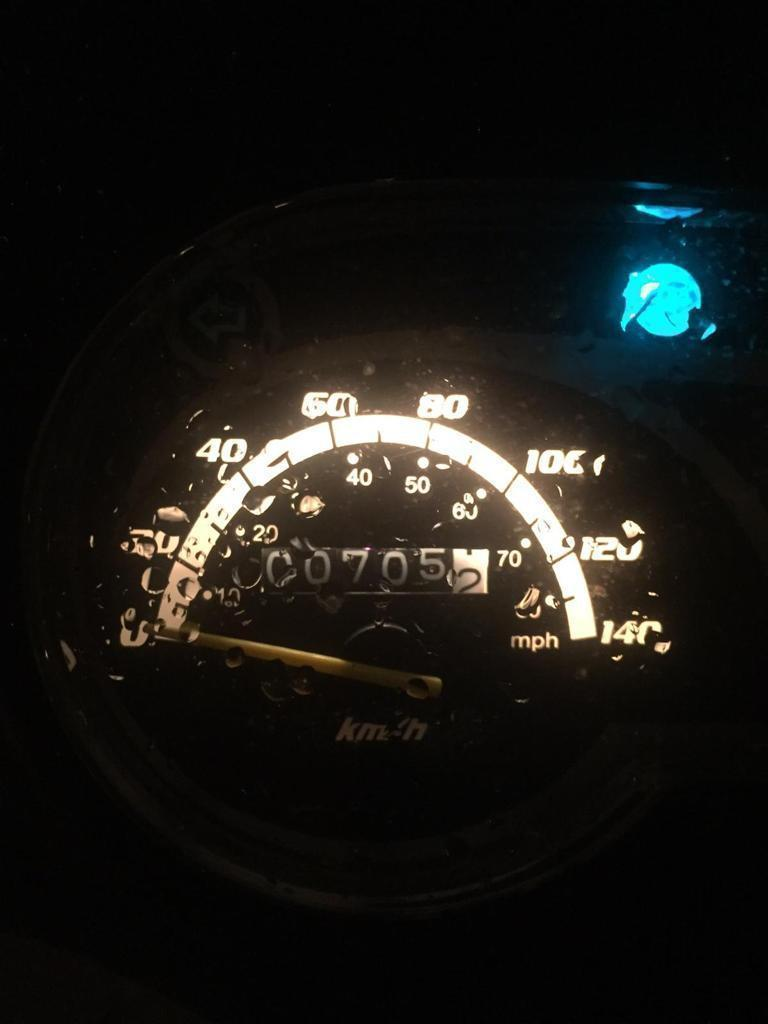0: (377, 548, 412, 591), (264, 549, 296, 592), (302, 549, 333, 590)
2: (456, 562, 485, 594)
5: (418, 547, 446, 586)
7: (340, 547, 368, 585)
odometer: (259, 545, 492, 596)
